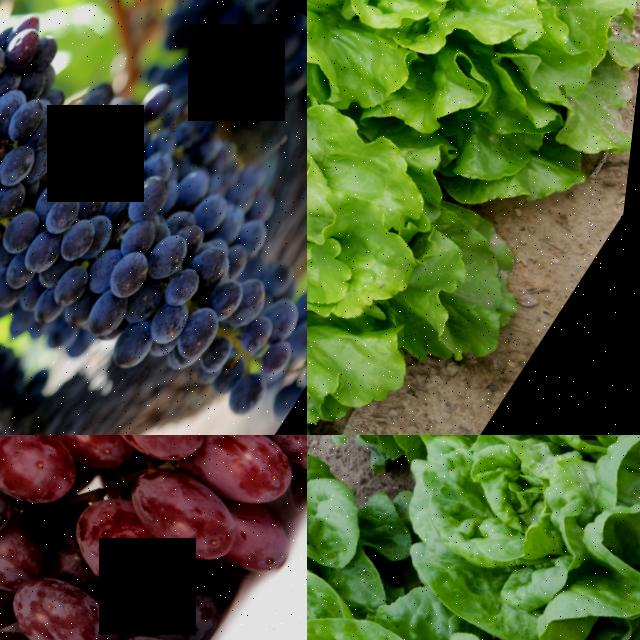grapes: (0, 0, 307, 435), (0, 435, 307, 640)
lettuce: (307, 22, 571, 435), (307, 0, 640, 227), (346, 435, 640, 640), (307, 535, 640, 640), (307, 435, 388, 640)
